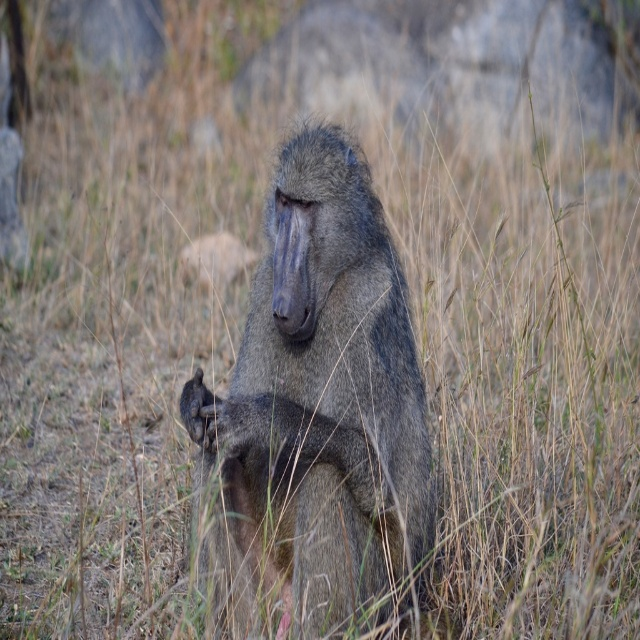Monkey: (176, 124, 443, 623)
